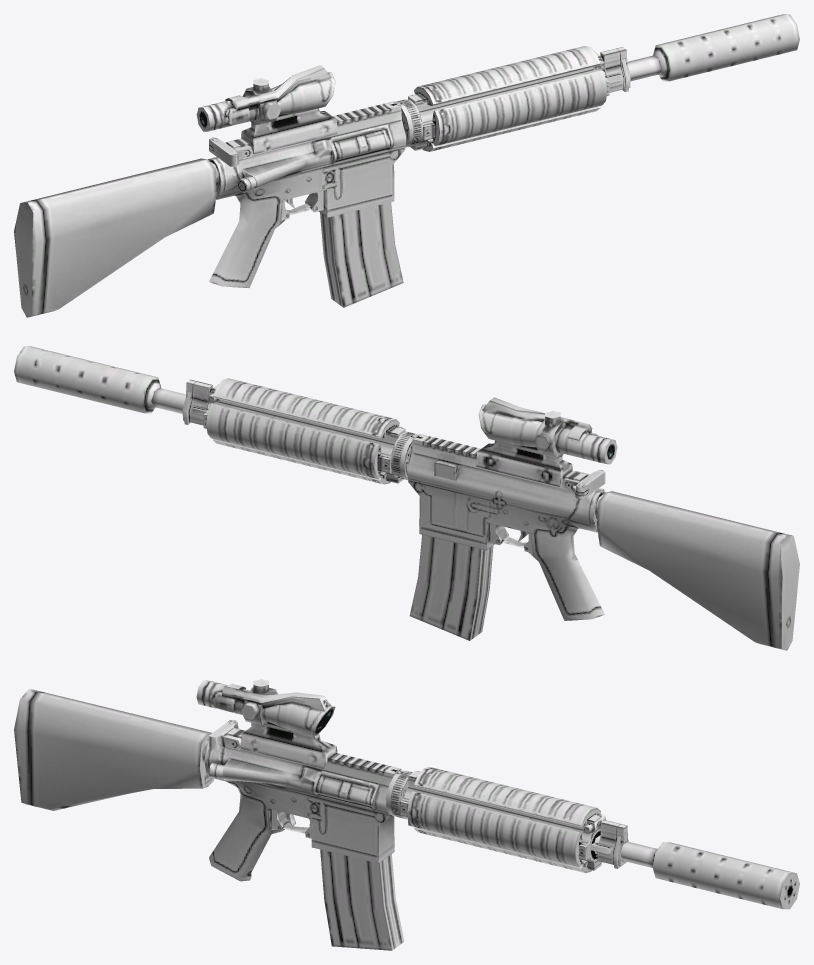
The model's file is Weapon_AssaultRifle_ATac_Weapon_AssaultRifle_ATac_SkeletalMesh3_Weapon_AssaultRifle_ATac_Watchman_LOD0.psk.glb.
3 views of the same model, one above another, from view 1: azimuth 30°, elevation 25°; view 2: azimuth 150°, elevation 25°; view 3: azimuth 330°, elevation 25° (orthographic).
Bounding box in the file's own units: 98.66 × 29.64 × 7.86.
Materials: 1 (1 with a texture image).
